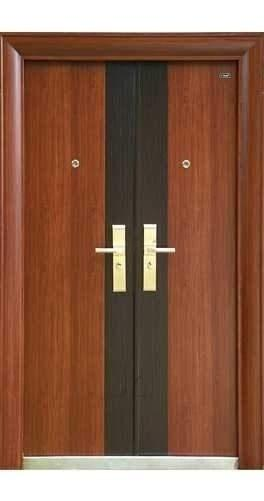door: (21, 57, 138, 468), (140, 54, 240, 469)
